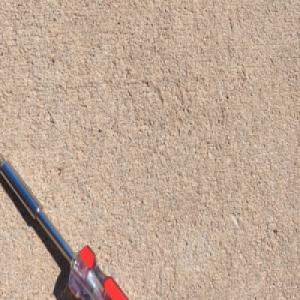Screwdriver: (0, 147, 132, 300)
